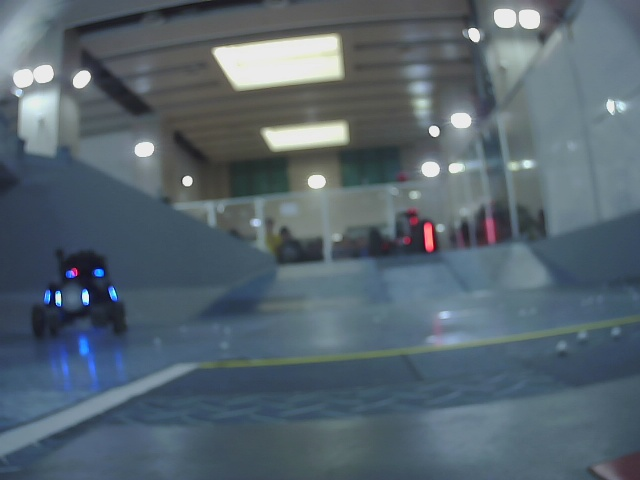lamp: (53, 288, 62, 307), (82, 290, 90, 305)
pair: (55, 290, 90, 305)
